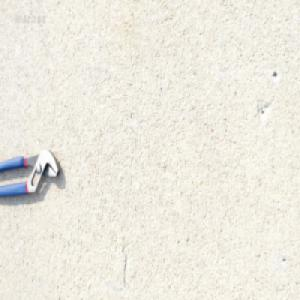Pliers: (0, 146, 61, 199)
